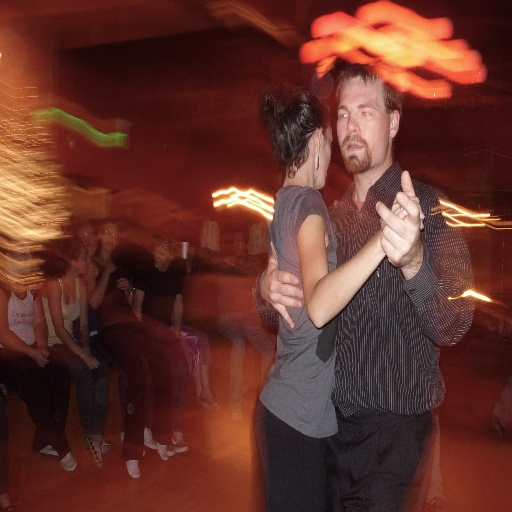hand: (373, 169, 423, 272), (263, 261, 310, 323), (388, 190, 425, 231), (31, 346, 52, 369), (84, 354, 101, 372), (116, 276, 132, 292), (103, 257, 116, 276), (41, 345, 49, 359)
